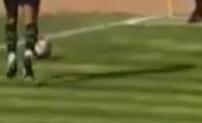ball: (31, 35, 57, 62)
